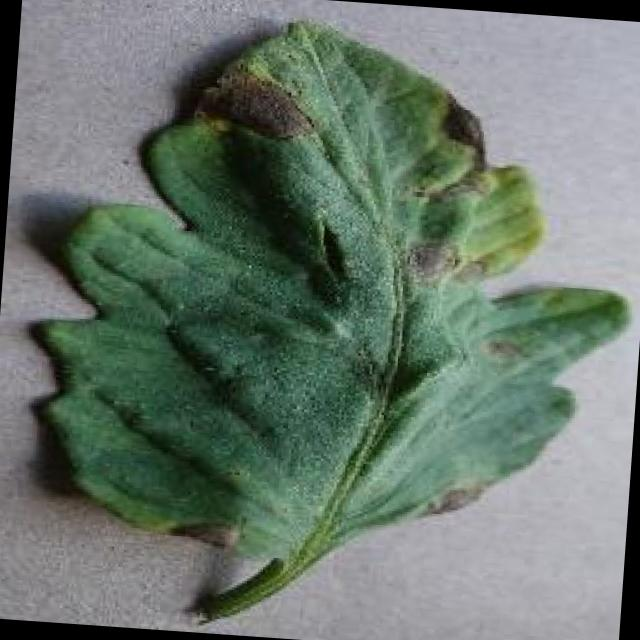Tomato_Early_Blight: (181, 10, 590, 580)
